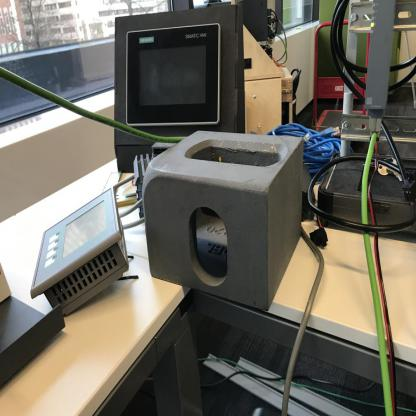CornerCasting: (142, 127, 306, 313)
